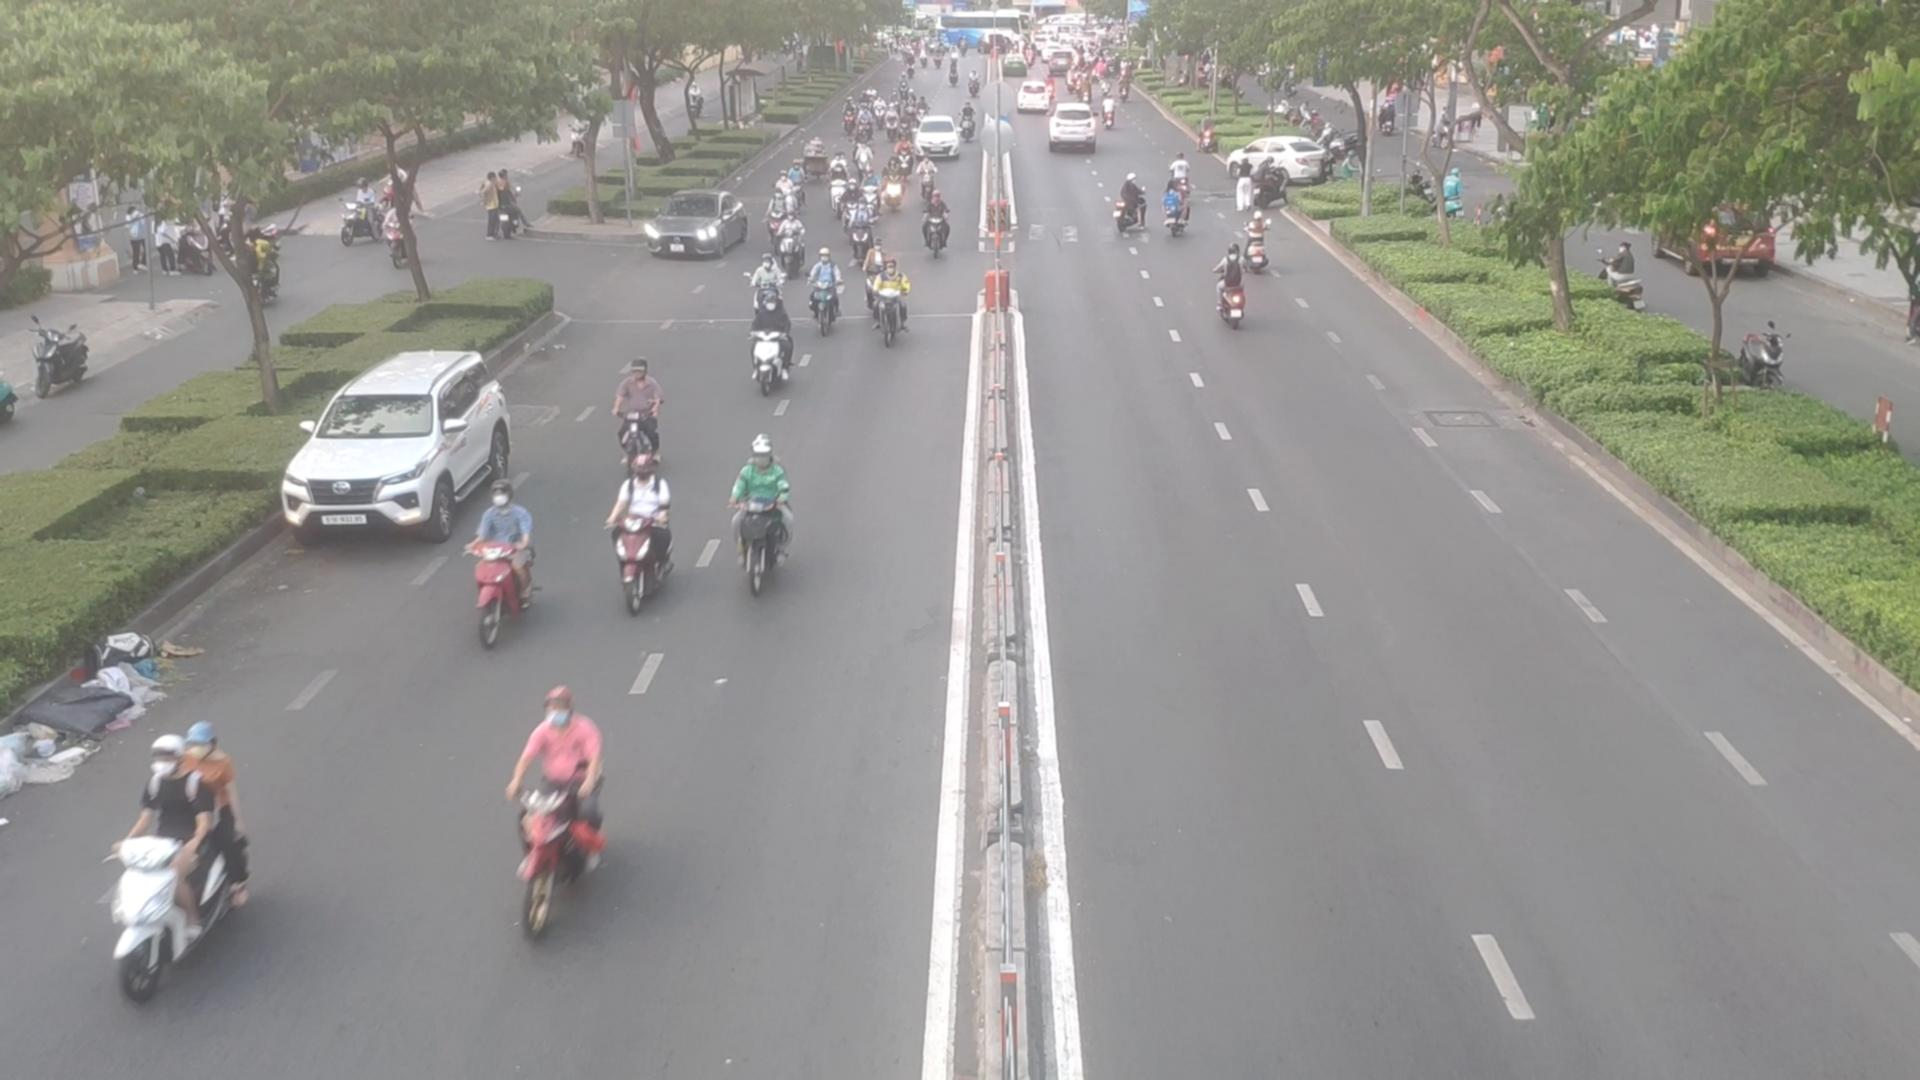car: (280, 347, 518, 541), (640, 191, 749, 260), (1225, 138, 1329, 193), (1047, 103, 1097, 152), (916, 116, 968, 160)
motorbike: (98, 715, 228, 996), (504, 684, 603, 924), (716, 433, 802, 593), (471, 472, 534, 644), (615, 454, 671, 600), (604, 360, 669, 472), (754, 297, 789, 392), (812, 248, 843, 335), (874, 265, 906, 342), (1218, 244, 1246, 320), (920, 196, 951, 260), (1112, 177, 1145, 229), (1244, 214, 1271, 272), (778, 216, 802, 276), (860, 243, 884, 301), (824, 164, 849, 212), (767, 191, 789, 247), (1166, 182, 1189, 231), (853, 203, 869, 264), (884, 160, 902, 204), (861, 173, 880, 218), (916, 161, 936, 200), (1167, 154, 1188, 191), (893, 141, 913, 175), (856, 145, 872, 179)
